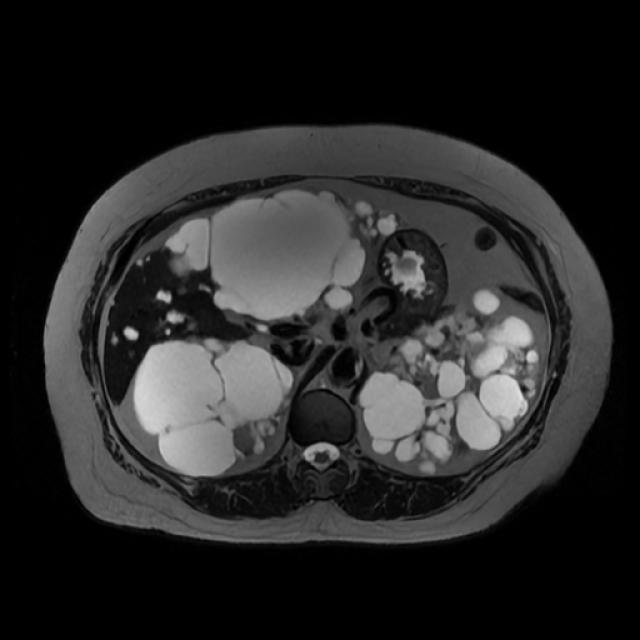sag: (132, 337, 297, 479)
sol: (358, 287, 544, 475)
